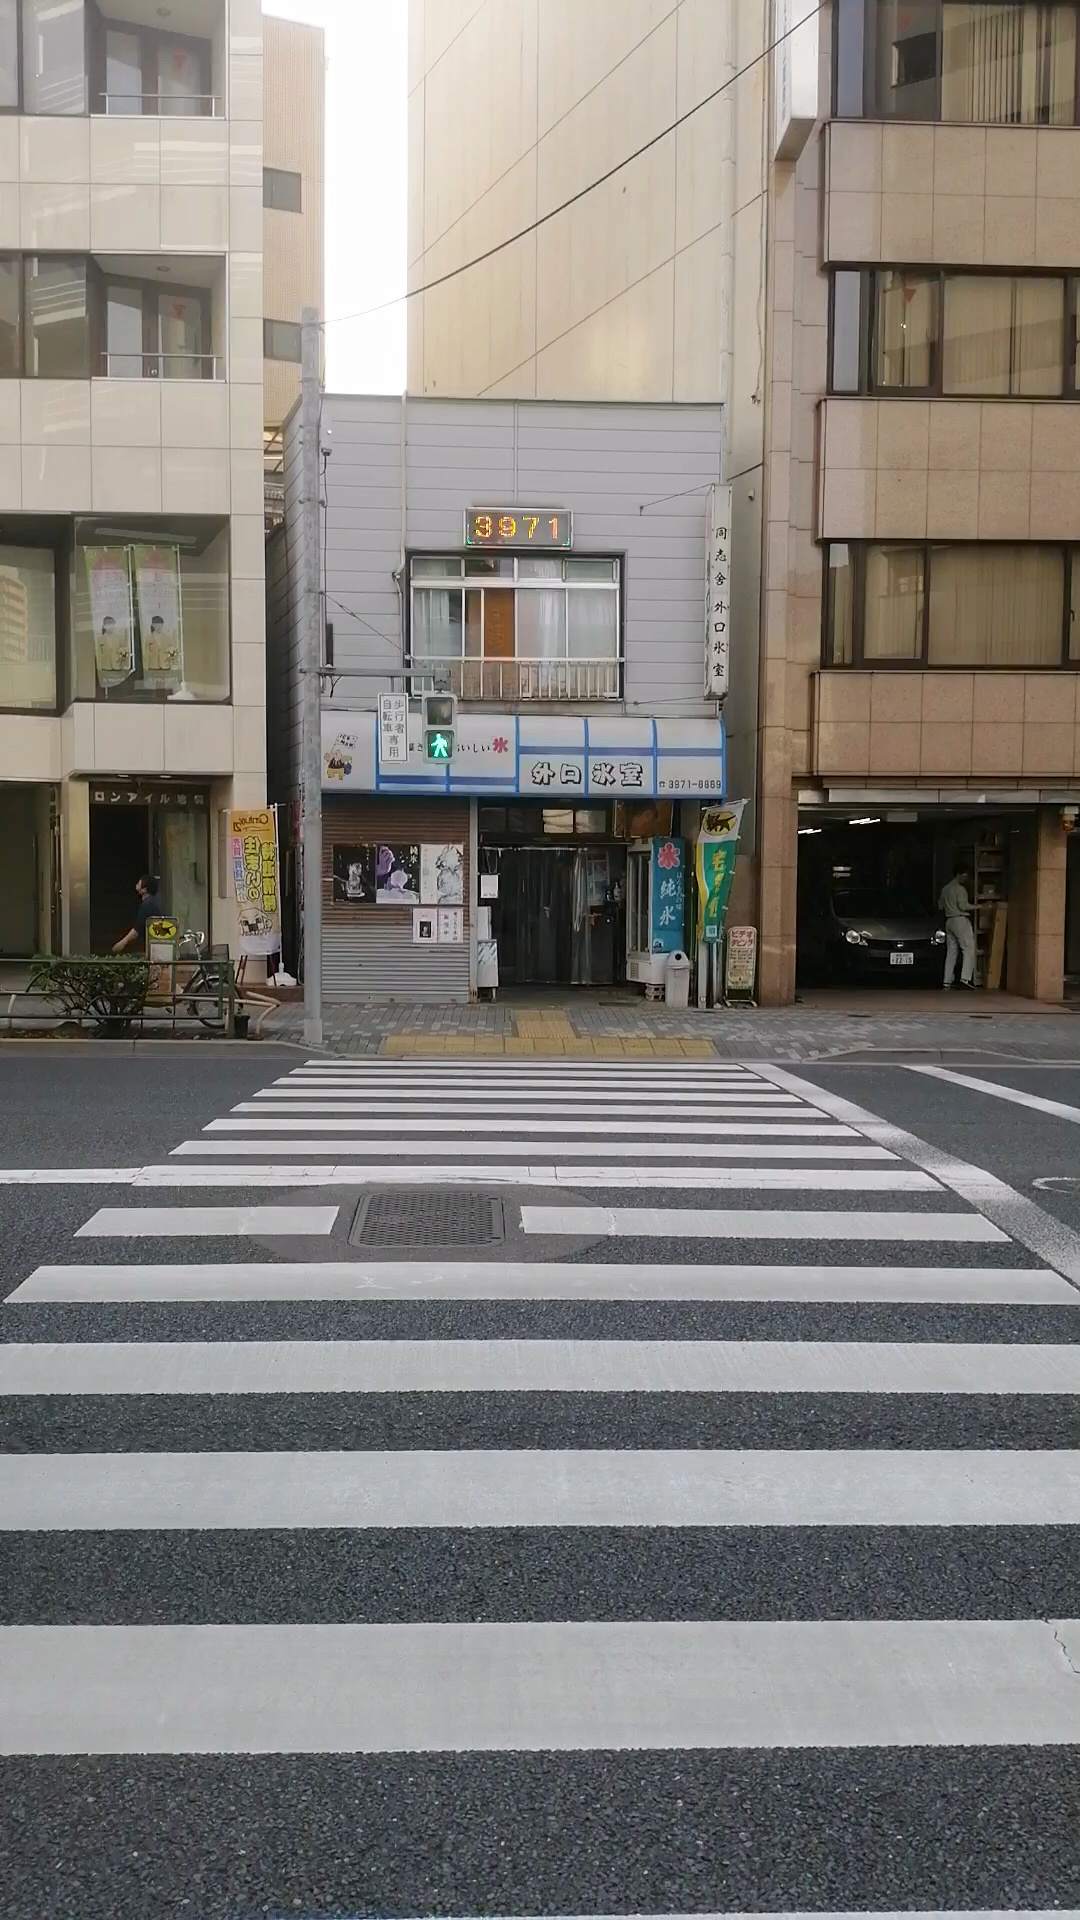green: (421, 694, 456, 762)
